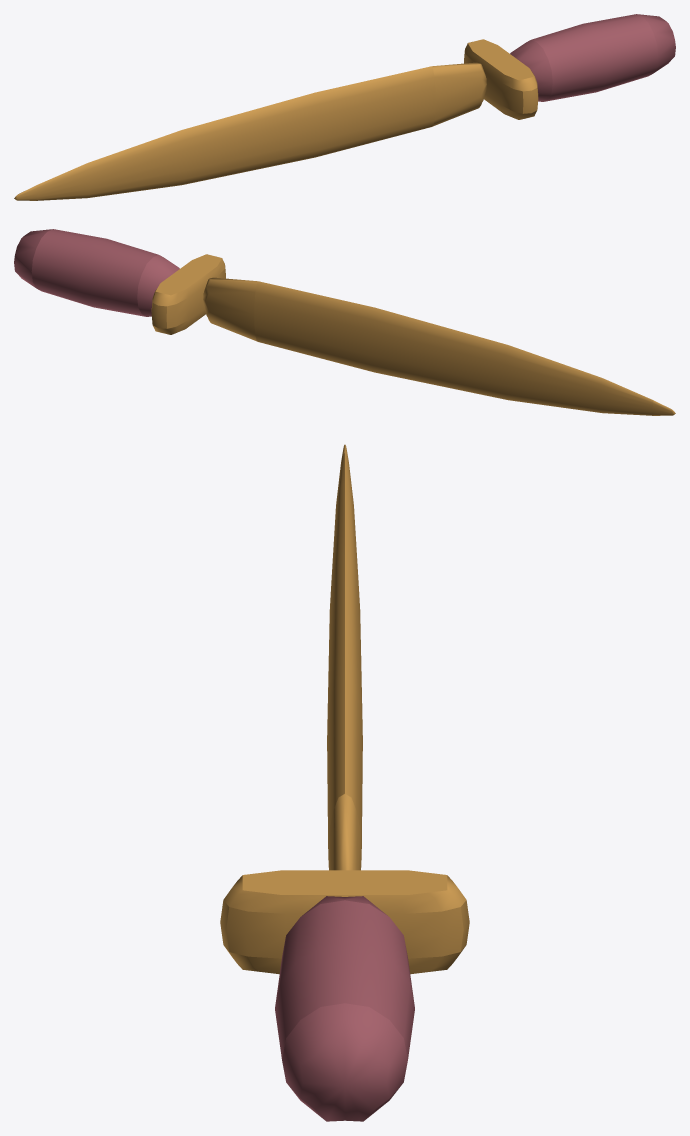
File: weapon_knife.glb
The picture shows the model from 3 angles, top to bottom: view 1: azimuth 30°, elevation 25°; view 2: azimuth 150°, elevation 25°; view 3: azimuth 270°, elevation 25°; orthographic projection. The views are drawn at different scales.
Visible parts, largest first — view 1: weapon_knife; view 2: weapon_knife; view 3: weapon_knife.
Boxes of the visible parts, box(x1,y1,x2,y2) form: weapon_knife: box(14, 14, 675, 200); weapon_knife: box(14, 229, 675, 415); weapon_knife: box(220, 444, 469, 1121).
Size of the model in its own units: 0.414 by 0.0393 by 0.0683.
